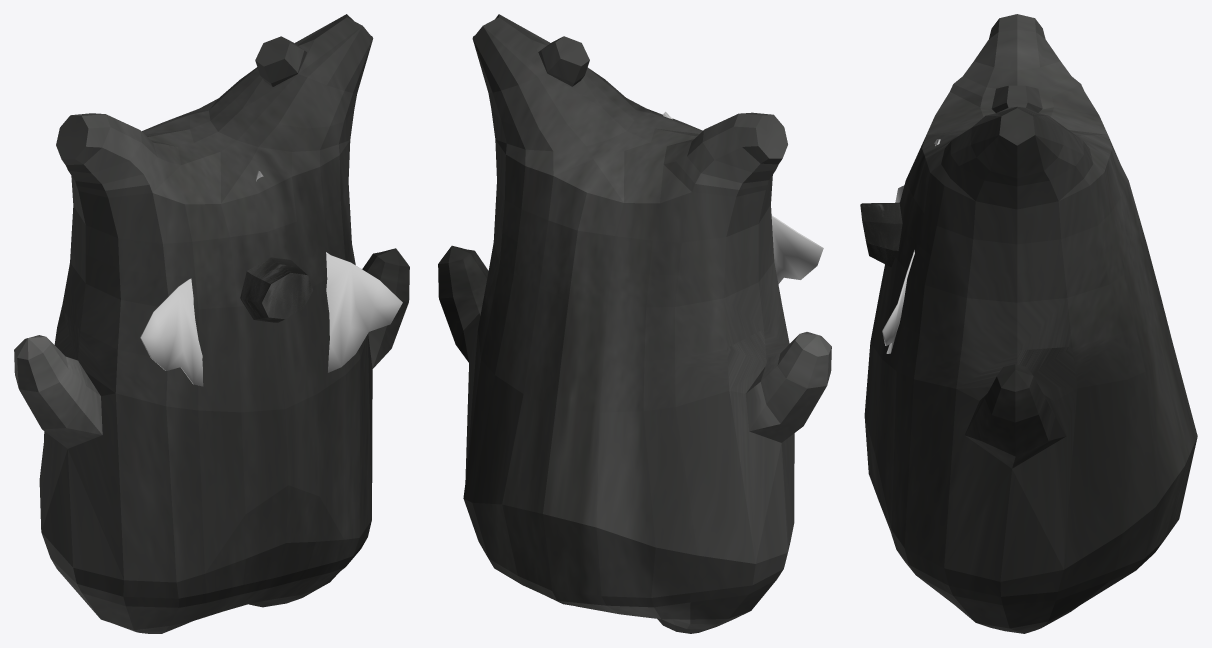
The model's file is frame_0064.obj.
3 views of the same model, side by side, from view 1: azimuth 30°, elevation 25°; view 2: azimuth 150°, elevation 25°; view 3: azimuth 270°, elevation 25° (orthographic).
Visible parts, largest first — view 1: korok, leaf, nose; view 2: korok, leaf; view 3: korok, nose, leaf.
Part boxes in pixels (x1,y1,x2,y2): korok: (14, 14, 409, 633); leaf: (140, 170, 402, 386); nose: (240, 257, 313, 322); korok: (438, 14, 831, 633); leaf: (663, 111, 823, 284); korok: (864, 14, 1197, 633); nose: (860, 202, 902, 267); leaf: (882, 139, 940, 353).
Size of the model in its own units: 1.56 by 2.16 by 1.18.
